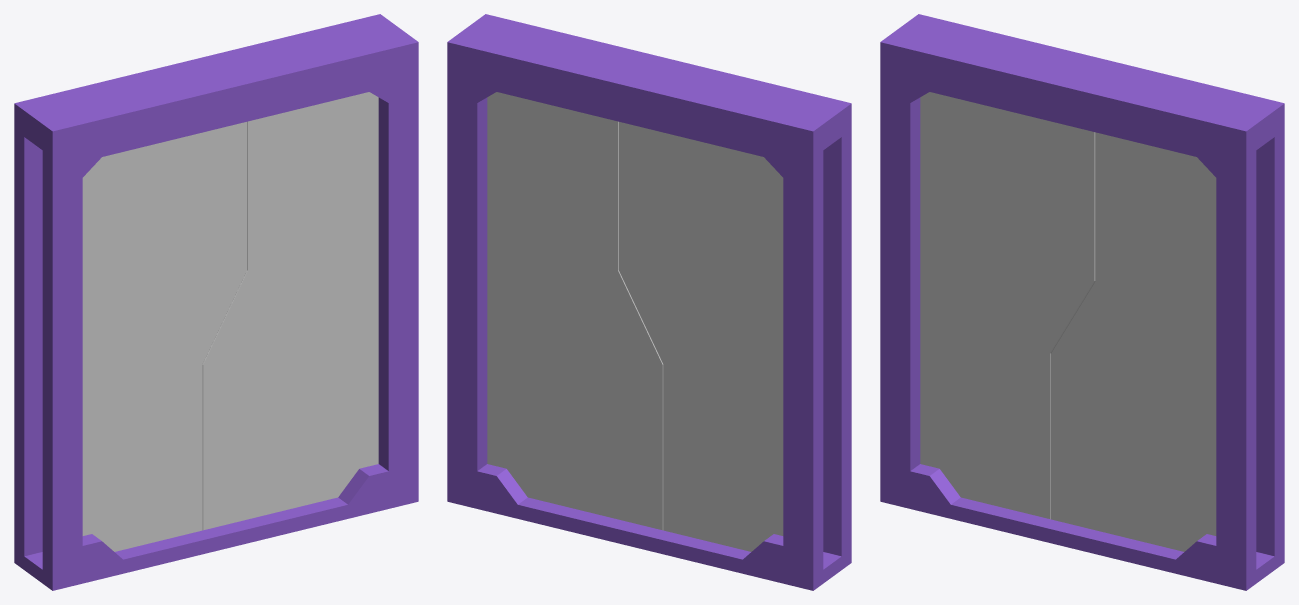
The model's file is sliding_door_01.glb.
The picture shows the model from 3 angles, left to right: view 1: azimuth 30°, elevation 25°; view 2: azimuth 150°, elevation 25°; view 3: azimuth 330°, elevation 25°; orthographic projection.
Parts seen in each view (by area): view 1: Cube, Cube.004, Cube.002; view 2: Cube, Cube.004, Cube.002; view 3: Cube, Cube.002, Cube.004.
Part boxes in pixels (left/top/right/bottom): Cube: left=14, top=14, right=418, bottom=590; Cube.004: left=202, top=92, right=378, bottom=530; Cube.002: left=82, top=122, right=246, bottom=551; Cube: left=447, top=14, right=851, bottom=590; Cube.004: left=487, top=92, right=663, bottom=530; Cube.002: left=619, top=122, right=783, bottom=551; Cube: left=880, top=14, right=1284, bottom=590; Cube.002: left=920, top=92, right=1095, bottom=519; Cube.004: left=1050, top=132, right=1216, bottom=551.
Bounding box in the file's own units: 2.5 × 3 × 0.4543.
